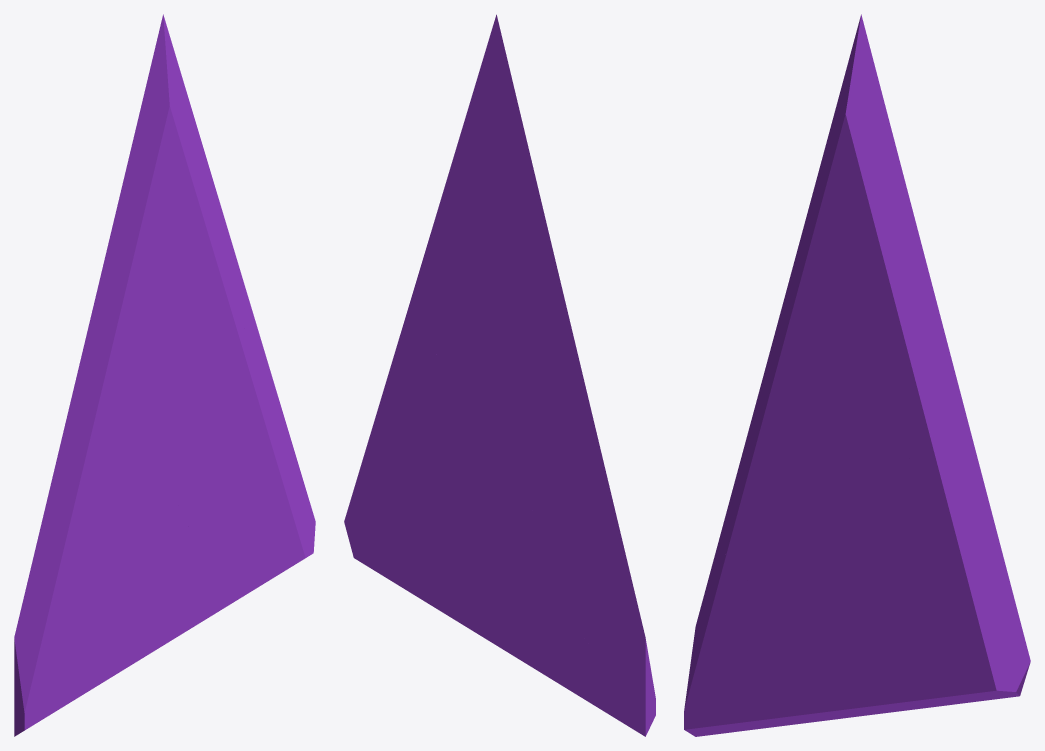
The model's file is Glass_83_1_12_chunks.fbx.
3 renders of one model, left to right at view 1: azimuth 30°, elevation 25°; view 2: azimuth 150°, elevation 25°; view 3: azimuth 330°, elevation 25°, orthographic. The views are drawn at different scales.
Parts seen in each view (by area): view 1: Glass_83_1_12_0, Glass_83_1_12_2, Glass_83_1_12_4, Glass_83_1_12_9, Glass_83_1_12_5, Glass_83_1_12_3, Glass_83_1_12_1, Glass_83_1_12_6, Glass_83_1_12_7, Glass_83_1_12_8; view 2: Glass_83_1_12_2, Glass_83_1_12_9, Glass_83_1_12_0, Glass_83_1_12_1, Glass_83_1_12_4, Glass_83_1_12_5, Glass_83_1_12_7, Glass_83_1_12_6, Glass_83_1_12_3; view 3: Glass_83_1_12_2, Glass_83_1_12_0, Glass_83_1_12_9, Glass_83_1_12_4, Glass_83_1_12_5, Glass_83_1_12_3, Glass_83_1_12_1, Glass_83_1_12_7, Glass_83_1_12_8, Glass_83_1_12_6.
Boxes of the visible parts, bbox=[...] form: Glass_83_1_12_0: bbox=[14, 512, 248, 736]; Glass_83_1_12_2: bbox=[175, 296, 315, 592]; Glass_83_1_12_4: bbox=[39, 402, 198, 556]; Glass_83_1_12_9: bbox=[115, 14, 228, 278]; Glass_83_1_12_5: bbox=[159, 233, 247, 455]; Glass_83_1_12_3: bbox=[69, 265, 173, 424]; Glass_83_1_12_1: bbox=[14, 535, 102, 701]; Glass_83_1_12_6: bbox=[82, 216, 146, 353]; Glass_83_1_12_7: bbox=[162, 263, 213, 347]; Glass_83_1_12_8: bbox=[139, 268, 175, 325]; Glass_83_1_12_2: bbox=[344, 295, 497, 601]; Glass_83_1_12_9: bbox=[431, 14, 544, 268]; Glass_83_1_12_0: bbox=[424, 533, 655, 736]; Glass_83_1_12_1: bbox=[486, 501, 649, 703]; Glass_83_1_12_4: bbox=[472, 392, 620, 534]; Glass_83_1_12_5: bbox=[412, 233, 506, 438]; Glass_83_1_12_7: bbox=[435, 241, 553, 396]; Glass_83_1_12_6: bbox=[504, 216, 577, 388]; Glass_83_1_12_3: bbox=[557, 355, 590, 408]; Glass_83_1_12_2: bbox=[852, 372, 1030, 705]; Glass_83_1_12_0: bbox=[684, 566, 941, 736]; Glass_83_1_12_9: bbox=[806, 14, 933, 312]; Glass_83_1_12_4: bbox=[723, 403, 877, 568]; Glass_83_1_12_5: bbox=[833, 293, 954, 518]; Glass_83_1_12_3: bbox=[756, 271, 849, 437]; Glass_83_1_12_1: bbox=[690, 526, 770, 662]; Glass_83_1_12_7: bbox=[837, 309, 893, 384]; Glass_83_1_12_8: bbox=[812, 282, 852, 354]; Glass_83_1_12_6: bbox=[771, 213, 819, 347].
Bounding box in the file's own units: 459 × 1000 × 27.2.
